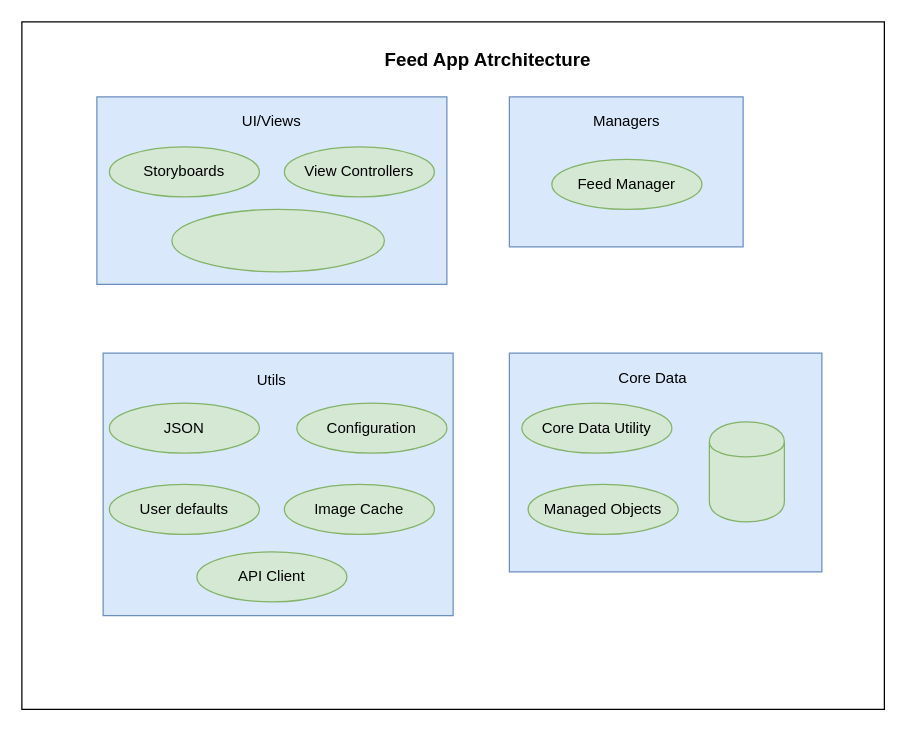
Image size: 906x731. Some labels were removed from this diagram. The centre of each missing label's shape, as x and y in pixels:
Database (Sqlite): the point at 746,471
UI Components (Collection View Cells): the point at 277,240
